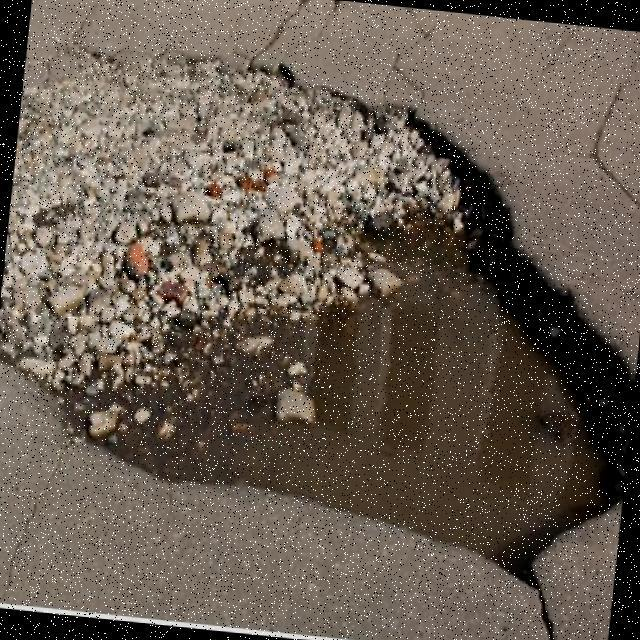Pothole: (0, 41, 630, 589)
